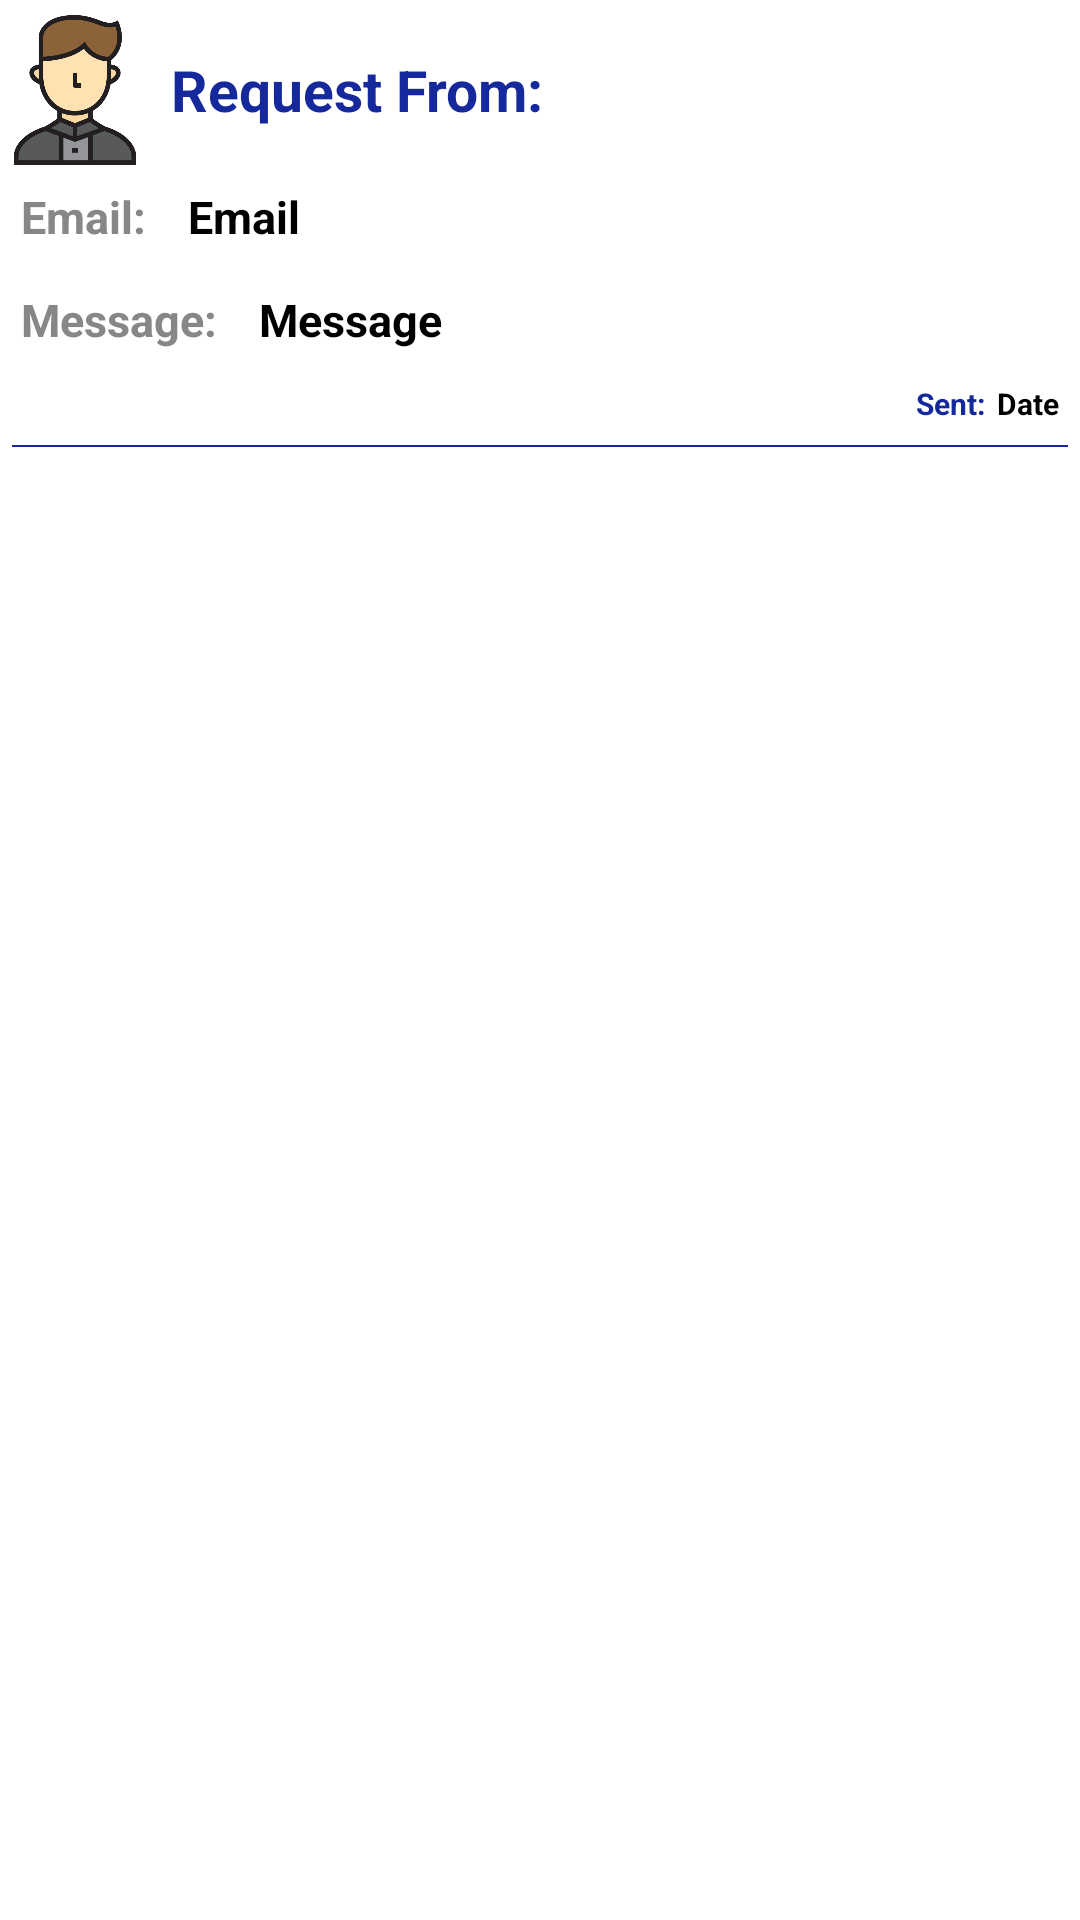

Screen size 1080px×1920px. Icon name, then its center in pixels as point (x, y):
user: point (75, 90)
